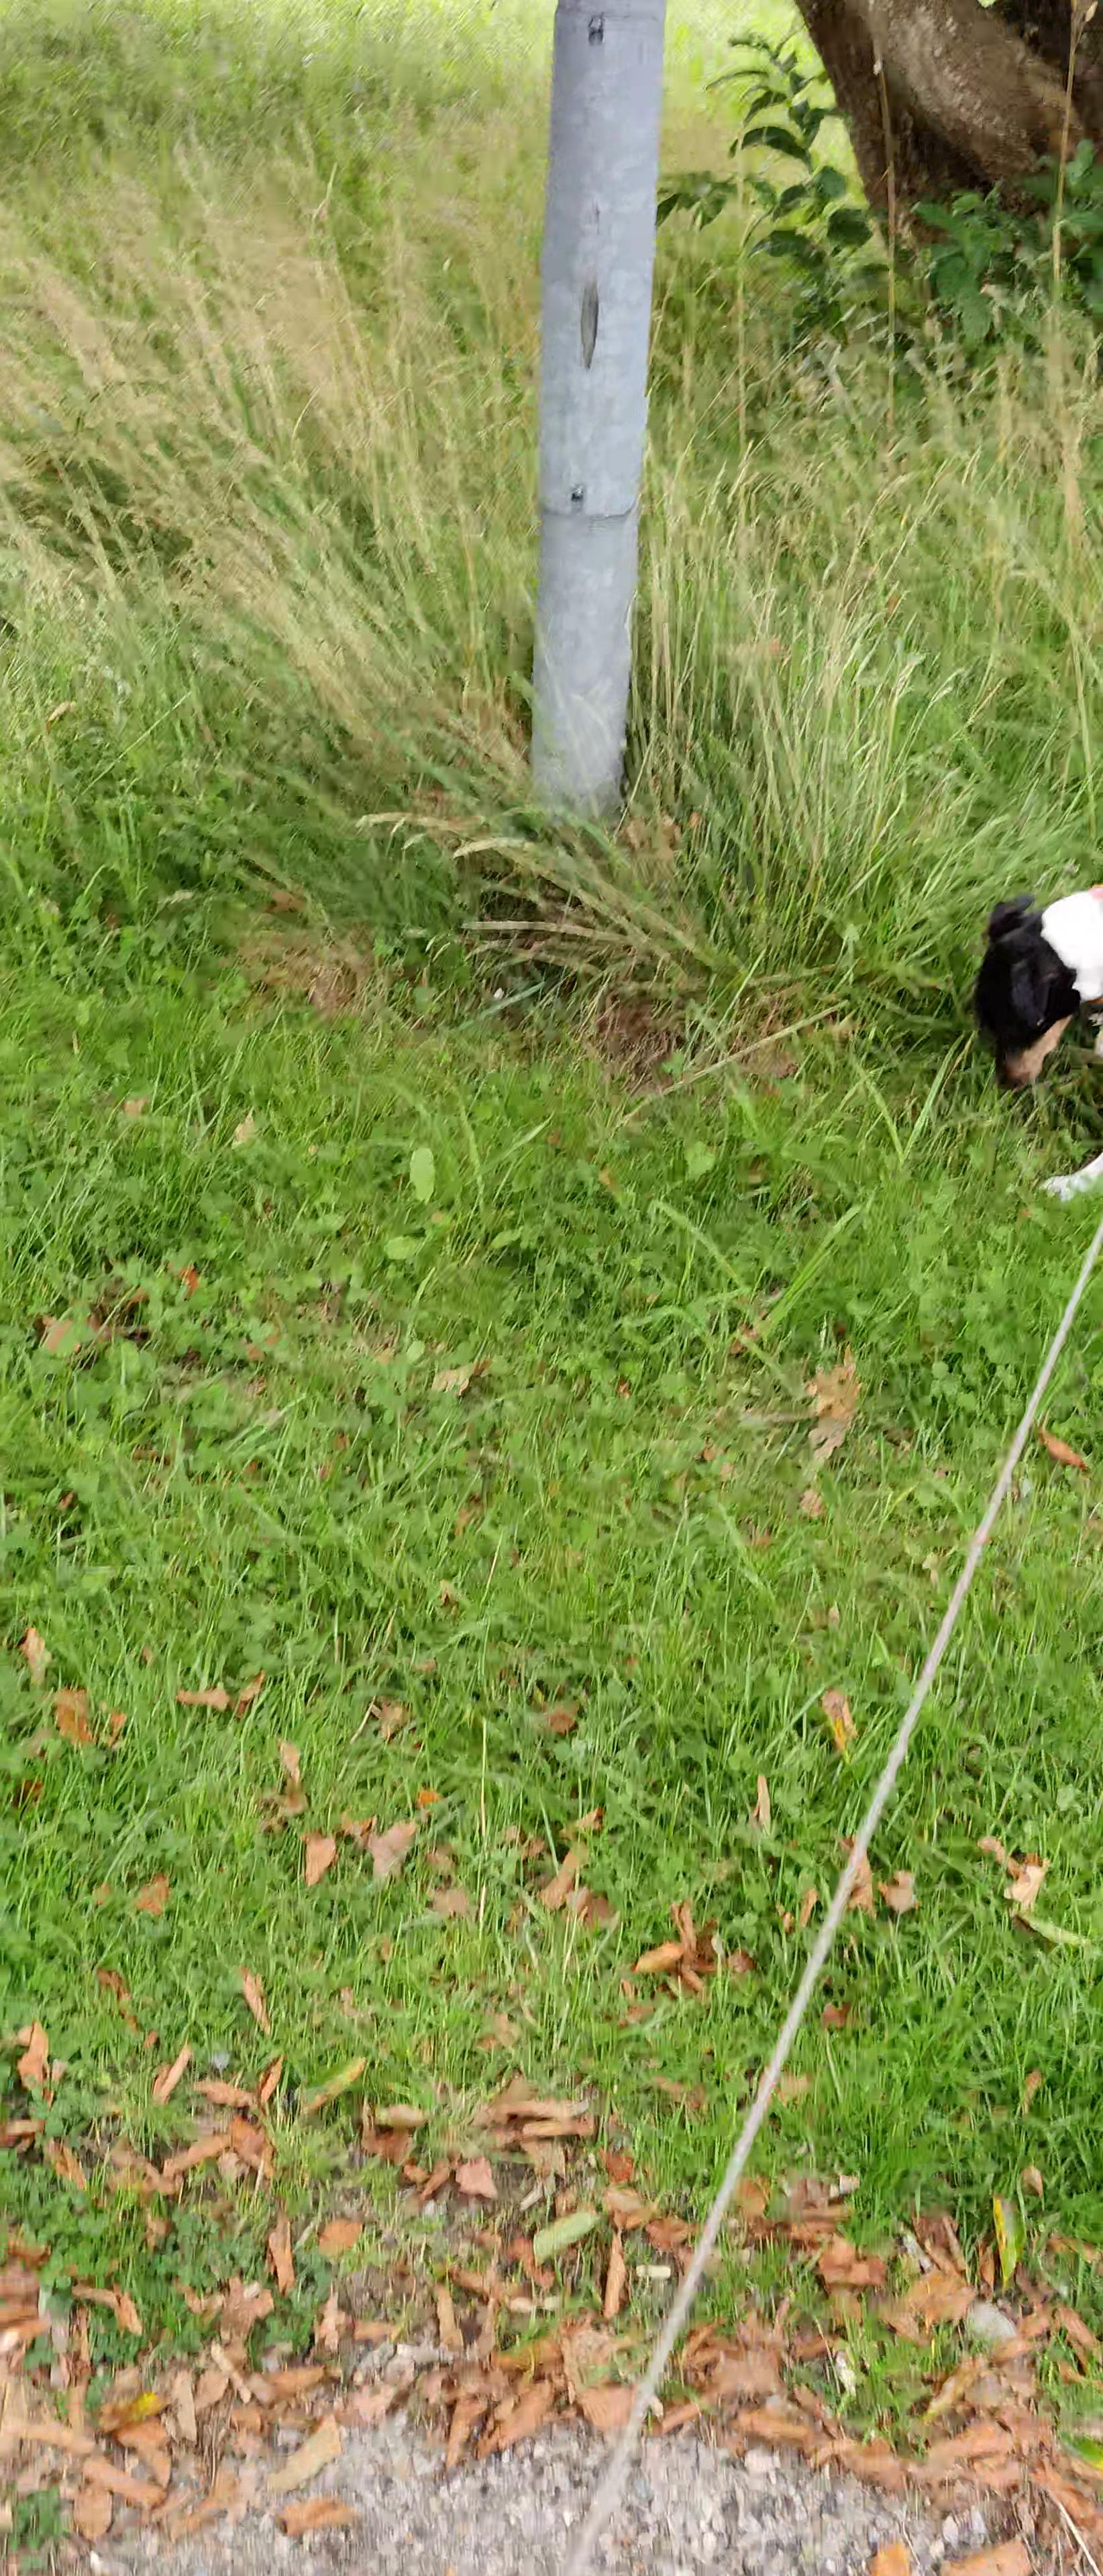Dog: (963, 856, 1103, 1224)
